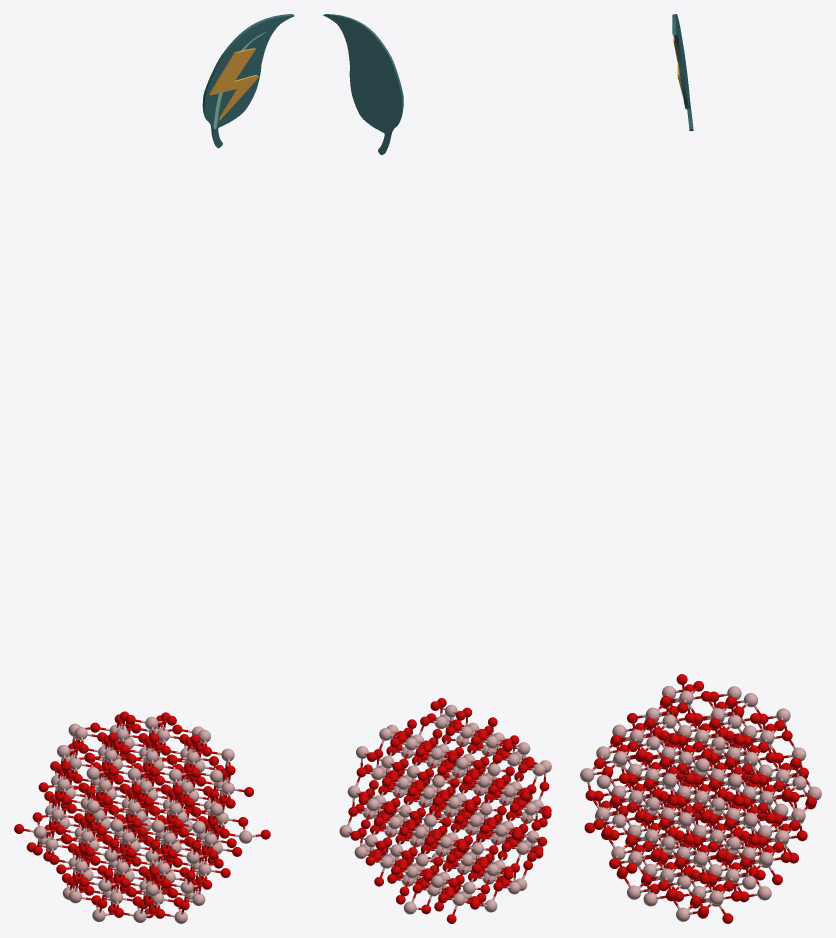
File: qds1_tio2.glb
The picture shows the model from 3 angles, left to right: view 1: azimuth 30°, elevation 25°; view 2: azimuth 150°, elevation 25°; view 3: azimuth 270°, elevation 25°; orthographic projection. The views are drawn at different scales.
Parts seen in each view (by area): view 1: qds1_tio2, path182, path186; view 2: qds1_tio2, path182; view 3: qds1_tio2, path182.
Boxes of the visible parts, bbox=[...] form: qds1_tio2: bbox=[14, 711, 270, 923]; path182: bbox=[202, 14, 294, 148]; path186: bbox=[209, 48, 258, 120]; qds1_tio2: bbox=[339, 698, 551, 923]; path182: bbox=[323, 14, 403, 154]; qds1_tio2: bbox=[580, 674, 821, 923]; path182: bbox=[672, 14, 693, 131].
Size of the model in its own units: 1.75 by 5.83 by 1.34.
